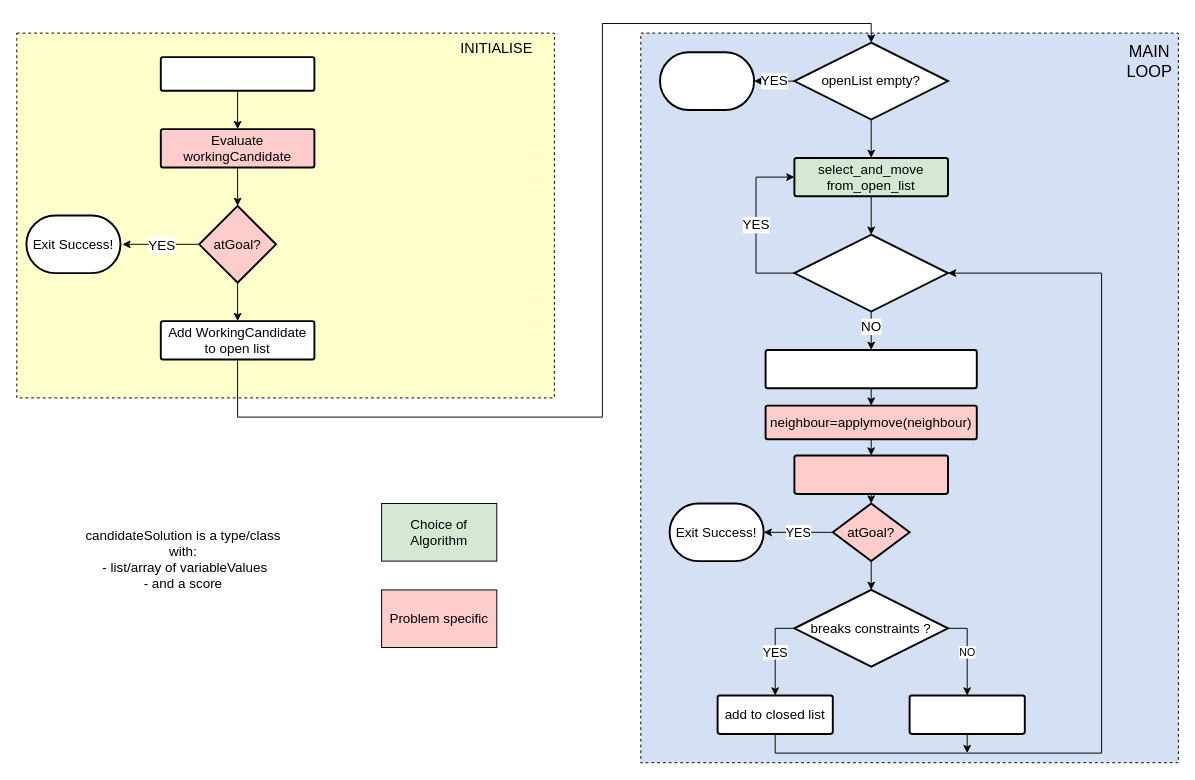
Some shapes in this 1195 by 780 pixel diagram are drawn without their labels. Here are the shapes that lost their labels. From the top down, the centre of each, then its label:
At point 237,73: "workingCandidate<-start openlist <- []".
At point 707,80: "Exit FAILED".
At point 870,272: "all neighbours examined ?".
At point 870,368: "set neighbour = copy of working candidate".
At point 870,474: "evaluate neighbour".
At point 966,714: "add to open list".
